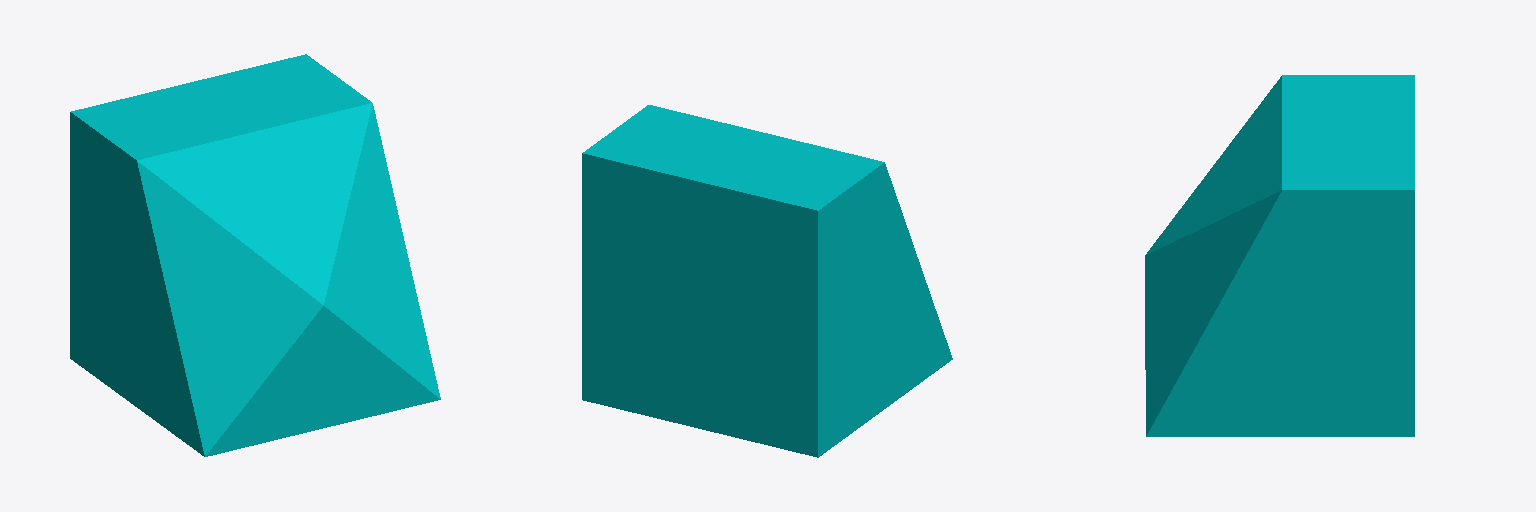
Rendered from AL3_Player.obj.
3 renders of one model, left to right at view 1: azimuth 30°, elevation 25°; view 2: azimuth 150°, elevation 25°; view 3: azimuth 270°, elevation 25°, orthographic.
Parts seen in each view (by area): view 1: 立方体; view 2: 立方体; view 3: 立方体.
Part boxes in pixels (x1,y1,x2,y2): 立方体: (70,54,440,456); 立方体: (582,105,952,457); 立方体: (1145,75,1414,436).
Size of the model in its own units: 2 by 2 by 1.99.